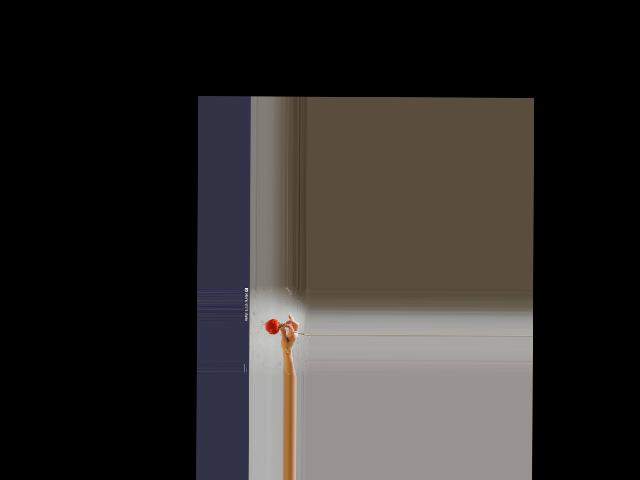tomato: (264, 319, 279, 335)
